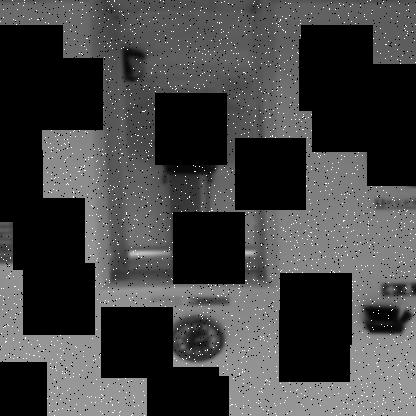Porte: (82, 1, 285, 295)
